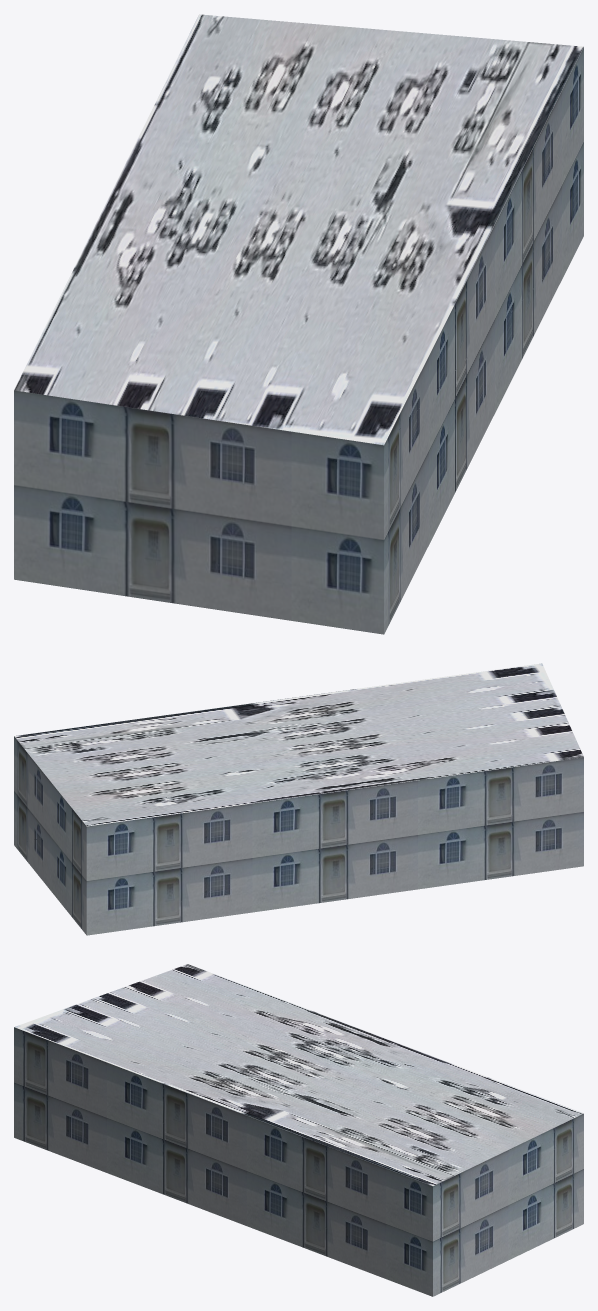
File: ResTex__4728.fbx
3 renders of one model, top to bottom at view 1: azimuth 30°, elevation 25°; view 2: azimuth 150°, elevation 25°; view 3: azimuth 270°, elevation 25°, orthographic. The views are drawn at different scales.
Parts seen in each view (by area): view 1: CityEngineMaterial_8_m, CityEngineMaterial_17_m; view 2: CityEngineMaterial_17_m, CityEngineMaterial_8_m; view 3: CityEngineMaterial_17_m, CityEngineMaterial_8_m.
Part boxes in pixels (<box>): CityEngineMaterial_8_m: <box>14,14,583,445</box>; CityEngineMaterial_17_m: <box>14,47,583,634</box>; CityEngineMaterial_17_m: <box>14,736,583,935</box>; CityEngineMaterial_8_m: <box>14,663,583,826</box>; CityEngineMaterial_17_m: <box>14,1027,583,1296</box>; CityEngineMaterial_8_m: <box>14,964,583,1186</box>.
Size of the model in its own units: 25.86 by 6 by 28.03.
Materials: 2 (2 with a texture image).
